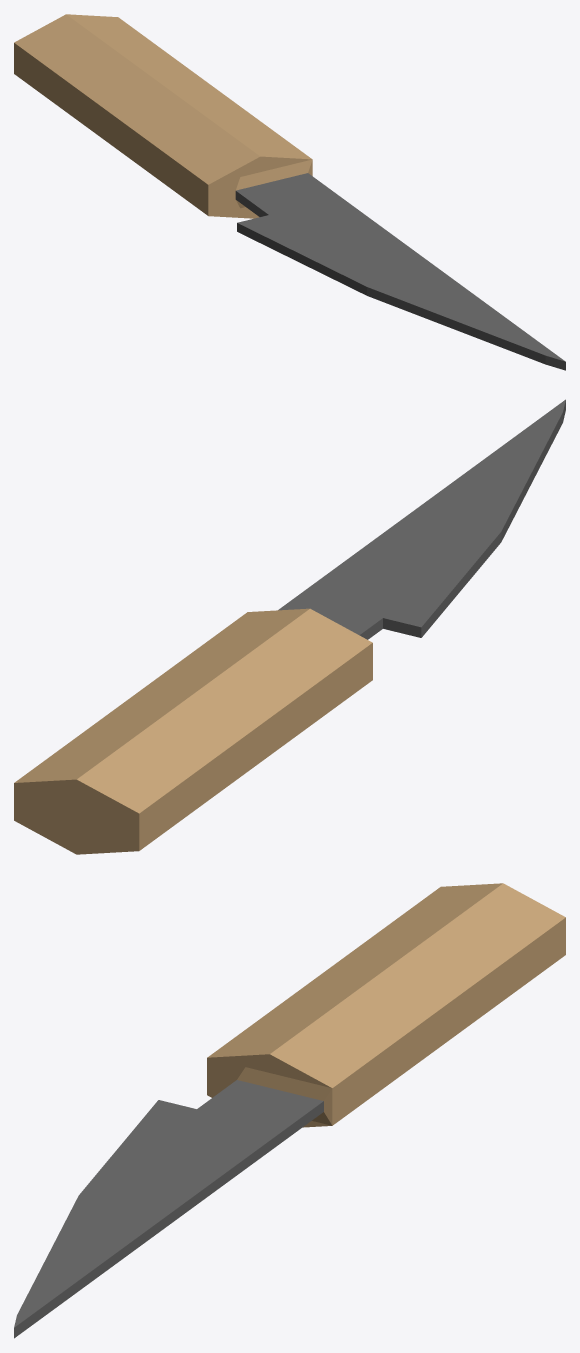
File: Knife.fbx
The picture shows the model from 3 angles, top to bottom: view 1: azimuth 30°, elevation 25°; view 2: azimuth 150°, elevation 25°; view 3: azimuth 330°, elevation 25°; orthographic projection. The views are drawn at different scales.
Visible parts, largest first — view 1: Noz; view 2: Noz; view 3: Noz.
Boxes of the visible parts, x1,y1,x2,y2 form: Noz: [14, 14, 565, 370]; Noz: [14, 399, 565, 854]; Noz: [14, 883, 565, 1338].
Size of the model in its own units: 3.6 by 1.95 by 25.68.
Materials: 1 (1 with a texture image).
